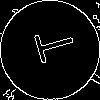T: (25, 25, 78, 67)
